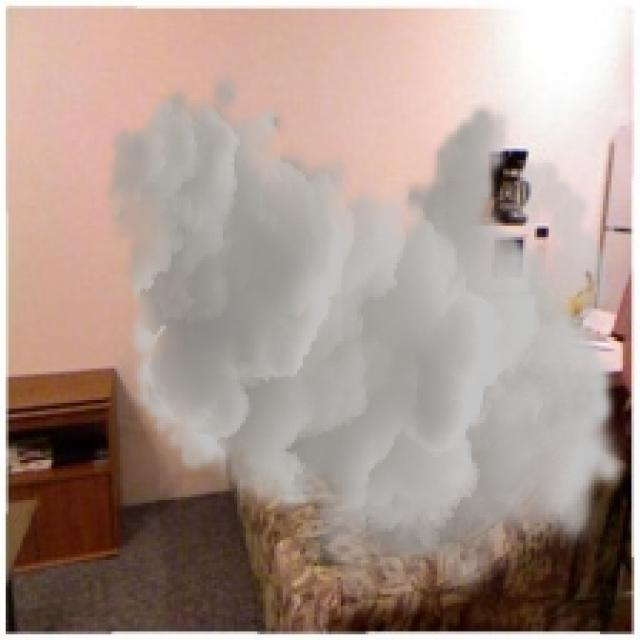smoke: (103, 69, 628, 614)
